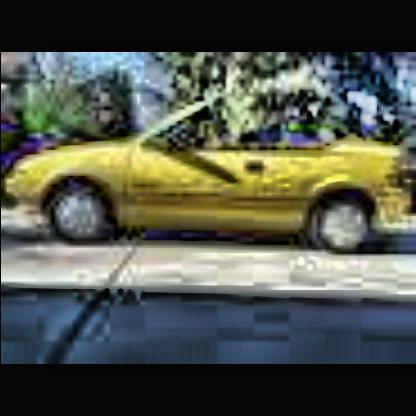Geo Metro Convertible 1993: (6, 103, 416, 265)
